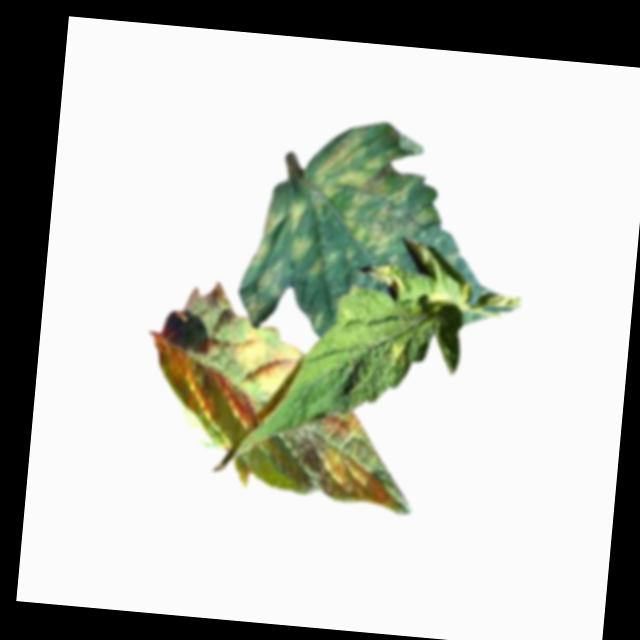Leaf_Mold: (305, 122, 439, 264), (146, 335, 260, 439), (309, 408, 403, 508), (241, 194, 310, 324), (231, 326, 307, 401), (382, 337, 410, 369)
